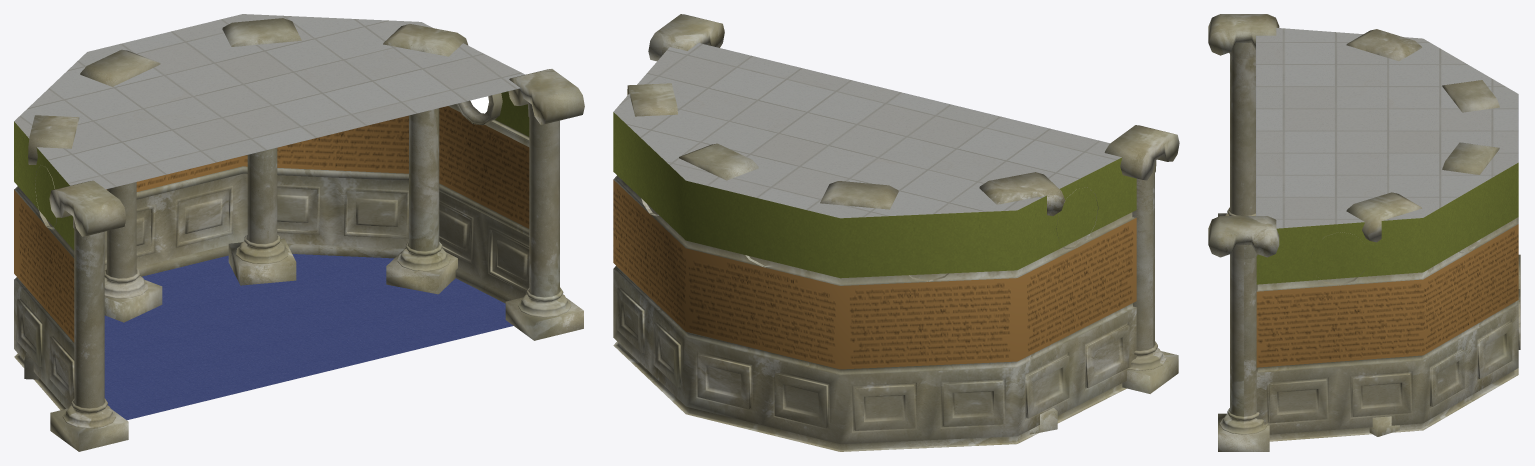
The model's file is saul_goodmans_office.glb.
The picture shows the model from 3 angles, left to right: view 1: azimuth 30°, elevation 25°; view 2: azimuth 150°, elevation 25°; view 3: azimuth 270°, elevation 25°; orthographic projection. The views are drawn at different scales.
Visible parts, largest first — view 1: Object_2, Object_3, Object_6; view 2: Object_3, Object_2, Object_6; view 3: Object_3, Object_2, Object_6.
Boxes of the visible parts, left/top/right/bottom form: Object_2: left=14, top=14, right=524, bottom=420; Object_3: left=14, top=91, right=529, bottom=410; Object_6: left=24, top=18, right=584, bottom=451; Object_3: left=613, top=112, right=1136, bottom=451; Object_2: left=613, top=43, right=1121, bottom=218; Object_6: left=627, top=14, right=1179, bottom=434; Object_3: left=1256, top=162, right=1520, bottom=441; Object_2: left=1256, top=28, right=1518, bottom=228; Object_6: left=1208, top=14, right=1499, bottom=451.
Size of the model in its own units: 5.83 by 2.66 by 3.46.
4 materials, 3 textured.
